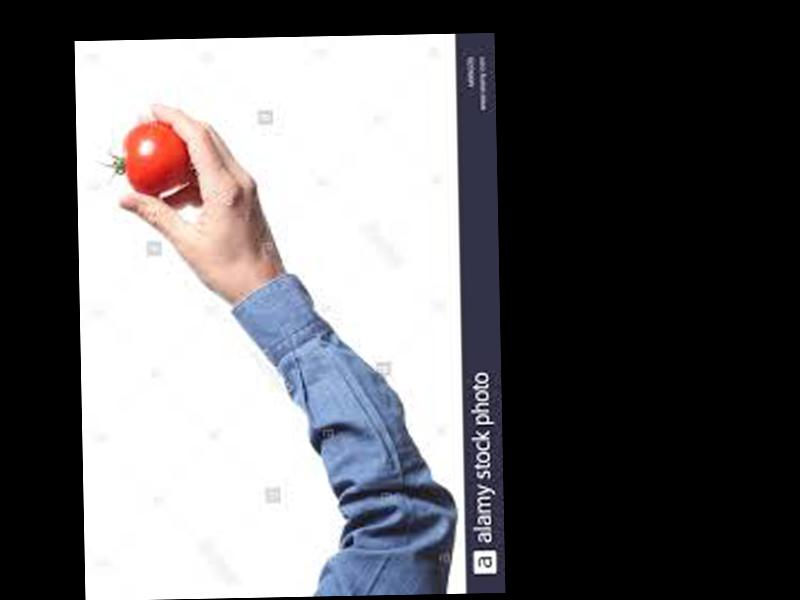Tomato: (124, 119, 187, 193)
